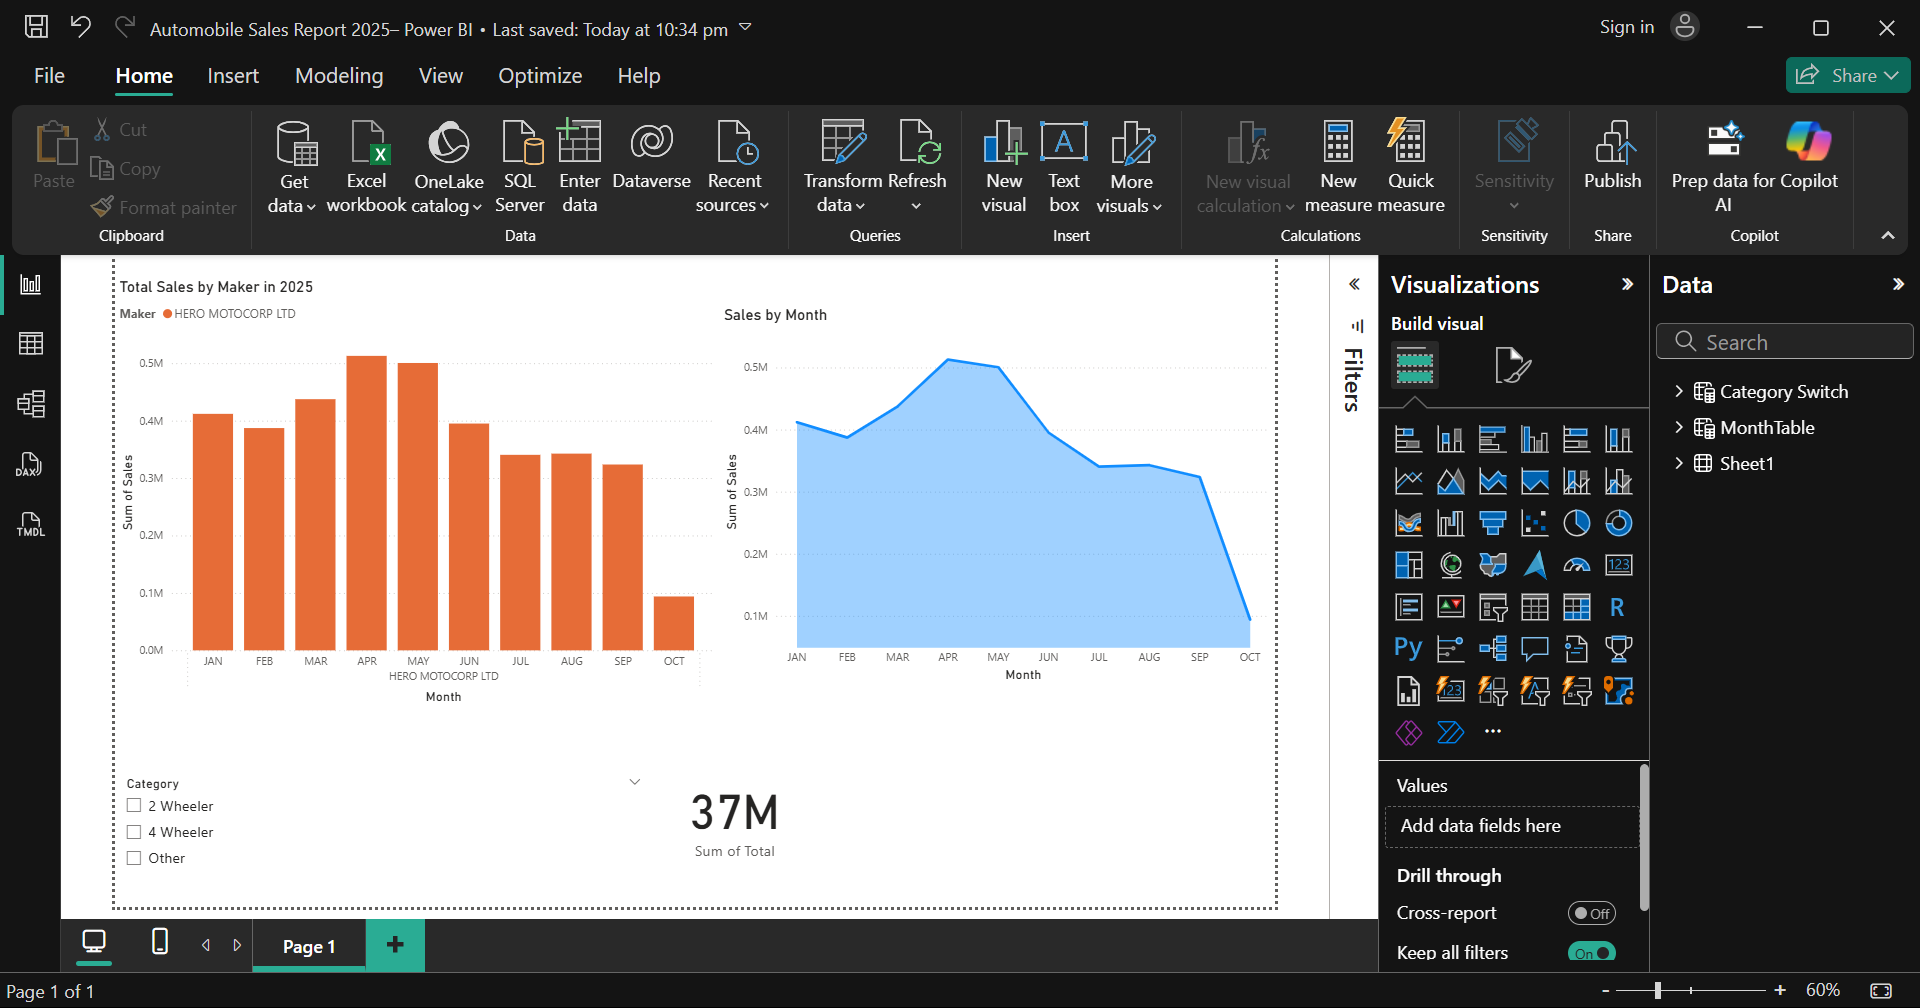

What the dashboard file says about the page in this screenshot:
{"tool":"powerbi","page":{"name":"Page 1","canvas":[1280,720],"ordinal":0},"visuals":[{"type":"clusteredColumnChart","fields":{"Category":["Sheet1.Maker","Sheet1.Month"],"Y":["Sum(Sheet1.Sales)"]},"box":[146.1,13.5,587.6,331.5],"z":0},{"type":"lineChart","fields":{"Y":["Sum(Sheet1.Sales)"],"Category":["MonthTable.Month"]},"box":[146.7,392.2,586.7,327.8],"z":1000}]}

Visuals, with their boxes on the page's 1280x720 design canvas (x1, y1, x2, y2). These are canvas units, not pixel positions in the 1920x1008 screenshot, which may show the page scaled, cropped or inside an application window:
clusteredColumnChart - Sheet1.Maker x Sheet1.Month: crop(146, 14, 734, 345)
lineChart - Sum(Sheet1.Sales) x MonthTable.Month: crop(147, 392, 733, 720)
